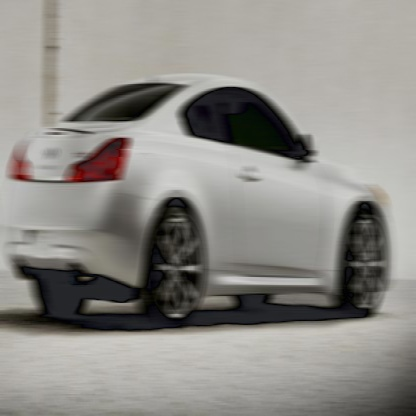Vehicle: (1, 69, 394, 332)
